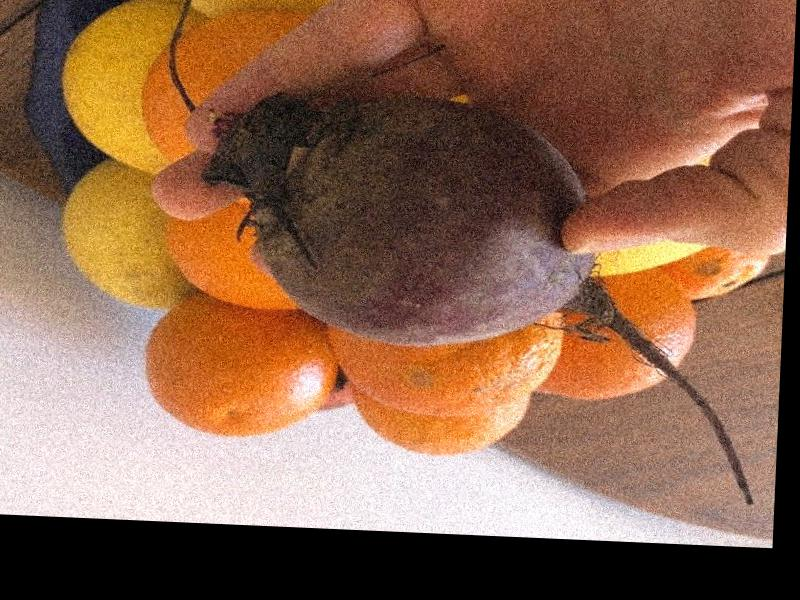Beet: (198, 88, 769, 505)
